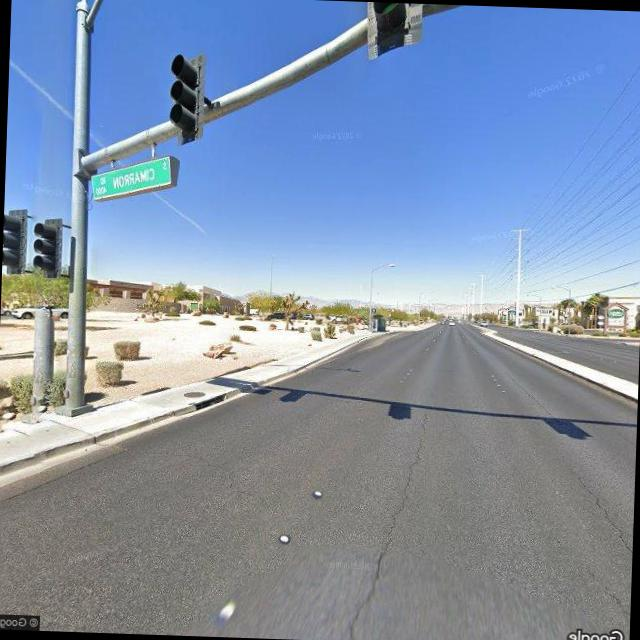crack: (341, 401, 431, 640), (570, 472, 634, 604)
